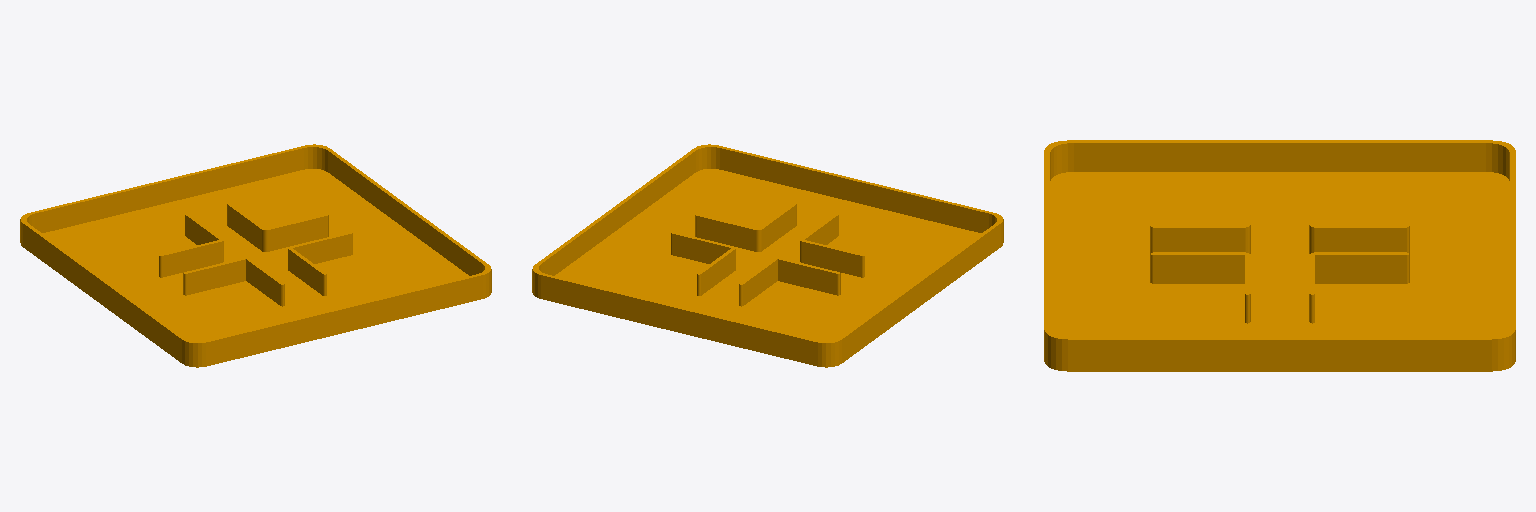
robot.urdf — arena:
<?xml version="1.0" encoding="utf-8"?>
<!-- =================================================================================== -->
<!-- |    This document was autogenerated by xacro from arena.urdf.xacro               | -->
<!-- |    EDITING THIS FILE BY HAND IS NOT RECOMMENDED                                 | -->
<!-- =================================================================================== -->
<robot name="arena">
  <link name="arena_link">
    <collision>
      <origin rpy="0 0 -4.71238898038" xyz="0 0 0"/>
      <!-- <origin xyz="0 0 0" rpy="0 0 0" /> -->
      <geometry>
        <mesh filename="package://hero_gazebo/worlds/models/arena_6/arena.obj" scale="1 1 1"/>
      </geometry>
    </collision>
    <visual>
      <origin rpy="0 0 -4.71238898038" xyz="0 0 0"/>
      <!-- <origin xyz="0 0 0" rpy="0 0 0" /> -->
      <geometry>
        <mesh filename="package://hero_gazebo/worlds/models/arena_6/arena.obj" scale="1 1 1"/>
      </geometry>
    </visual>
    <inertial>
      <origin rpy="0 0 0" xyz="0 0 0"/>
      <mass value="100"/>
      <inertia ixx="134.083333333" ixy="0" ixz="0" iyy="134.083333333" iyz="0" izz="134.083333333"/>
    </inertial>
  </link>
  <gazebo reference="arena_link">
    <static>true</static>
    <gravity>false</gravity>
    <selfCollide>false</selfCollide>
  </gazebo>
</robot>

--- Facts derived from the render (not from the file) ---
Views: 3 orthographic renders of the robot side by side, from view 1: azimuth 30°, elevation 25°; view 2: azimuth 150°, elevation 25°; view 3: azimuth 270°, elevation 25°.
Robot: arena — 1 links, 0 joints (none); root link arena_link; default pose: all joints at 0.
Links seen in each view (by area): view 1: arena_link; view 2: arena_link; view 3: arena_link.
Link boxes in pixels (box(x1,y1,x2,y2)): arena_link: box(20, 144, 491, 367); arena_link: box(532, 144, 1003, 367); arena_link: box(1044, 140, 1515, 371).
Size in the robot's own frame: 4 by 4 by 0.3 metres.
Meshes: 1 distinct files referenced, 1 mesh visuals loaded (1 OBJ).
